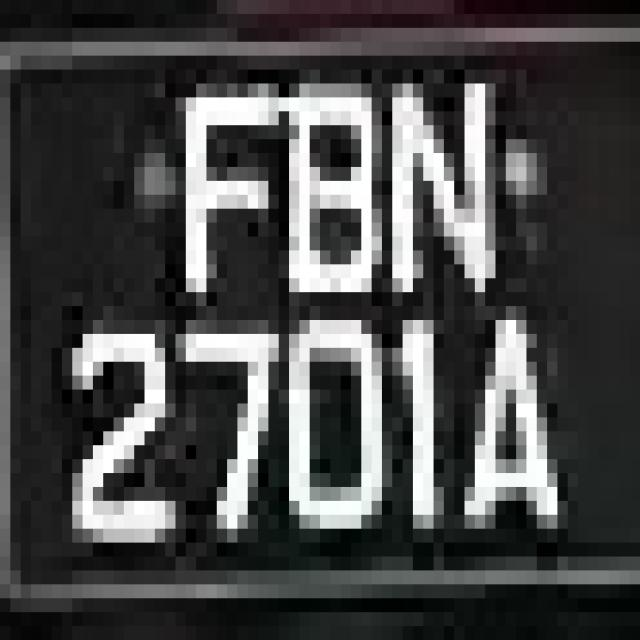0: (248, 292, 382, 543)
1: (372, 264, 454, 570)
2: (31, 320, 175, 557)
7: (134, 292, 289, 543)
A: (423, 278, 568, 570)
B: (258, 56, 392, 362)
F: (155, 28, 258, 320)
N: (372, 42, 506, 320)
